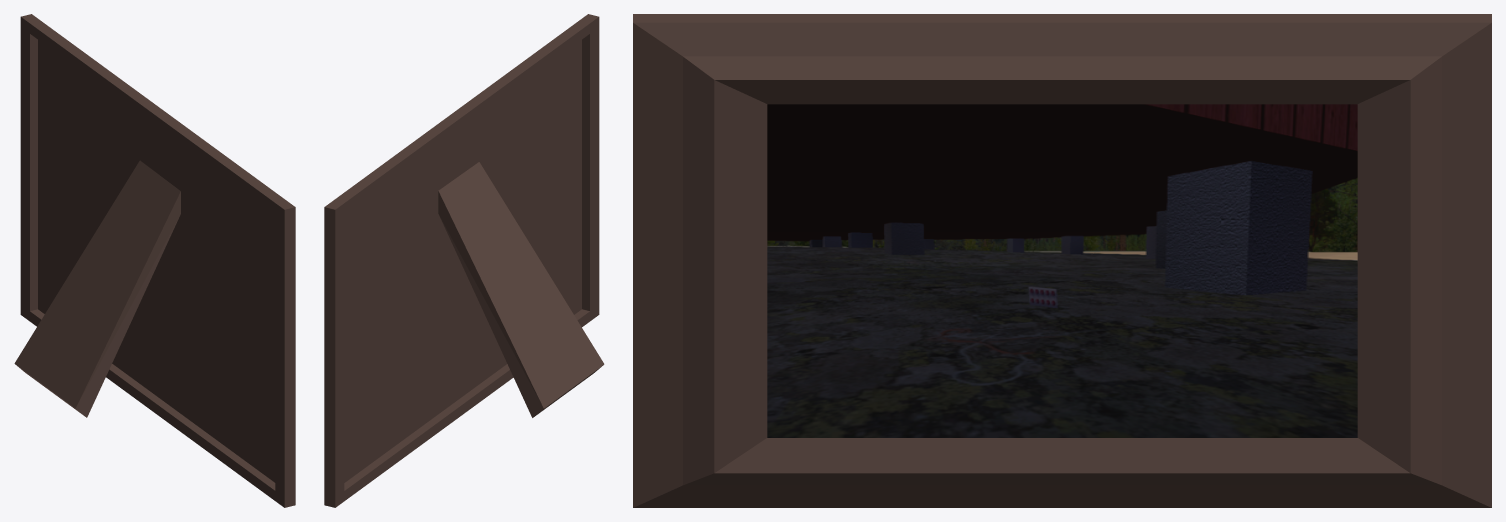
File: Picture.fbx
3 views of the same model, side by side, from view 1: azimuth 30°, elevation 25°; view 2: azimuth 150°, elevation 25°; view 3: azimuth 270°, elevation 25° (orthographic). The views are drawn at different scales.
Visible parts, largest first — view 1: Picture; view 2: Picture; view 3: Picture.
Boxes of the visible parts, box(x1,y1,x2,y2) form: Picture: box(14, 14, 295, 507); Picture: box(324, 14, 604, 507); Picture: box(633, 14, 1491, 507).
Bounding box in the file's own units: 11.9 × 25.58 × 41.03.
